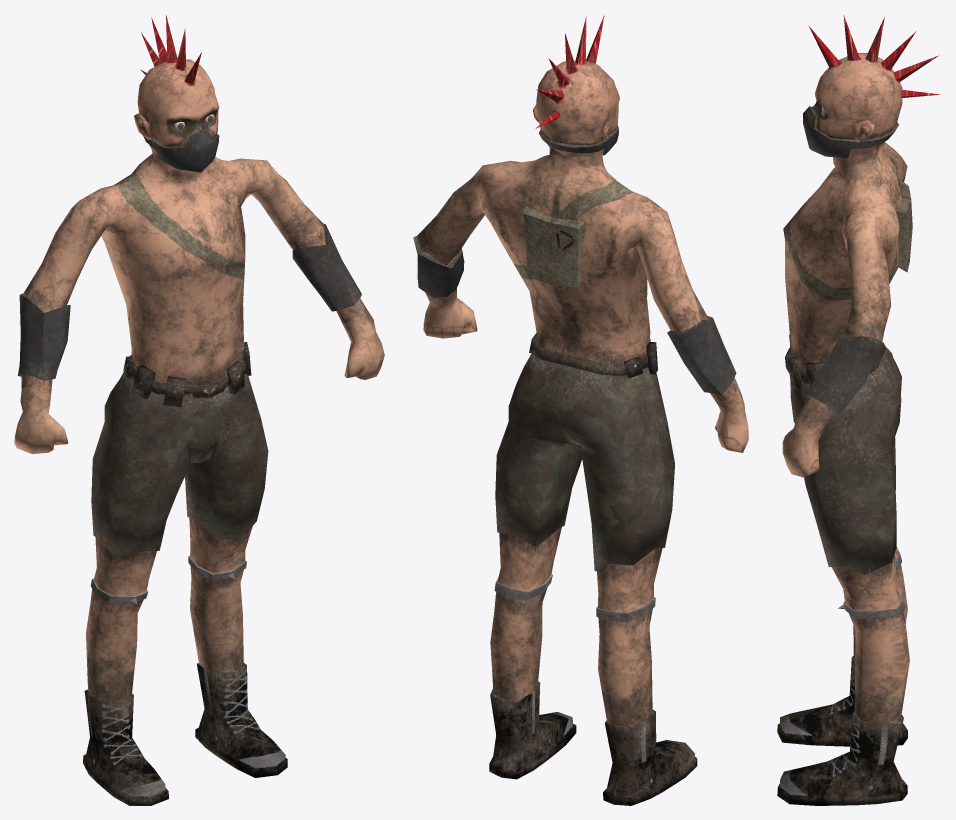
File: Anim_idle_npc2.0021.obj
The picture shows the model from 3 angles, left to right: view 1: azimuth 30°, elevation 25°; view 2: azimuth 150°, elevation 25°; view 3: azimuth 270°, elevation 25°; orthographic projection.
Visible parts, largest first — view 1: polySurface1; view 2: polySurface1; view 3: polySurface1.
Boxes of the visible parts, x1=… form: polySurface1: x1=14, y1=15, x2=384, y2=805; polySurface1: x1=413, y1=15, x2=748, y2=805; polySurface1: x1=777, y1=15, x2=940, y2=805.
Size of the model in its own units: 4.95 by 10.2 by 2.01.
2 materials, 2 textured.
